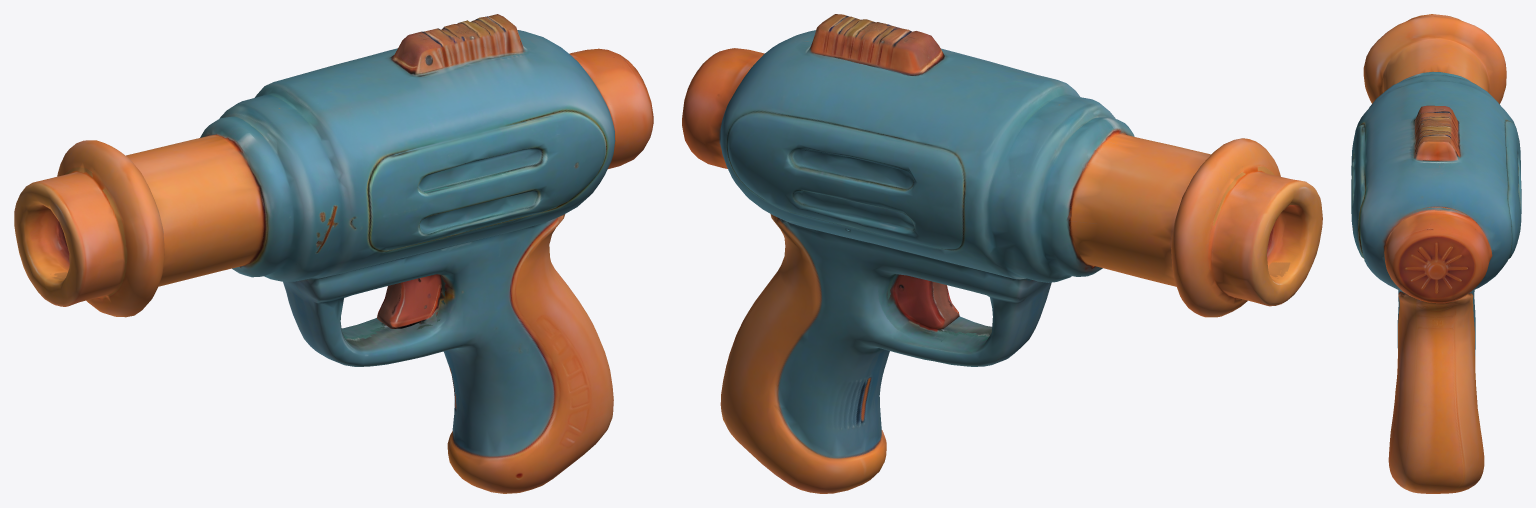
File: Blast_of_Color_0815184302_texture.fbx
3 views of the same model, side by side, from view 1: azimuth 30°, elevation 25°; view 2: azimuth 150°, elevation 25°; view 3: azimuth 270°, elevation 25° (orthographic). The views are drawn at different scales.
Parts seen in each view (by area): view 1: input; view 2: input; view 3: input.
Boxes of the visible parts, box(x1,y1,x2,y2) form: input: box(14, 14, 653, 493); input: box(682, 14, 1322, 493); input: box(1351, 14, 1521, 493).
Bounding box in the file's own units: 199 × 151 × 66.9.
1 material, 1 textured.
